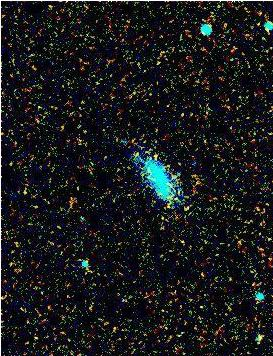star: (137, 139, 167, 169)
